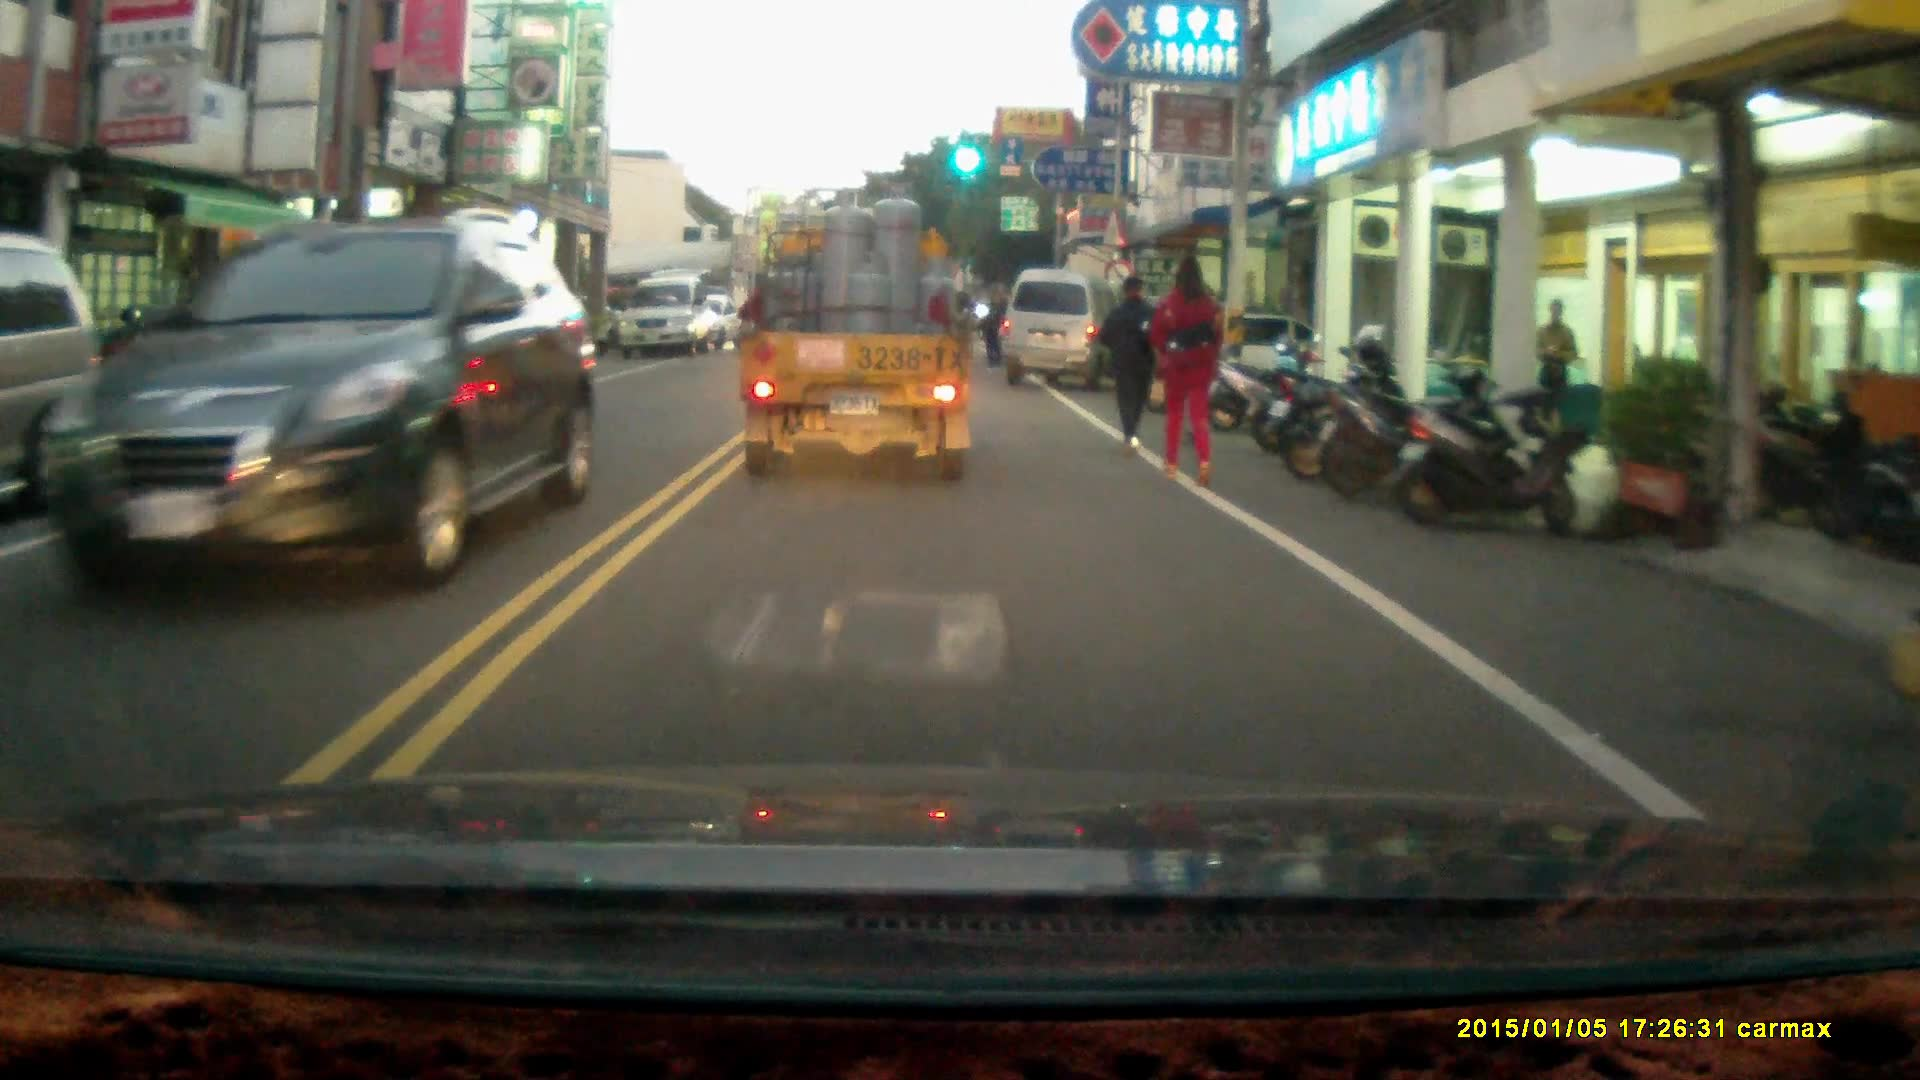pedestrian: (1151, 248, 1227, 486), (1097, 266, 1167, 455), (1532, 295, 1578, 437), (979, 288, 1012, 367)
vehicle: (41, 204, 584, 596), (736, 181, 984, 487), (1, 228, 122, 507), (229, 290, 489, 398), (1005, 267, 1130, 392), (618, 275, 721, 359)
